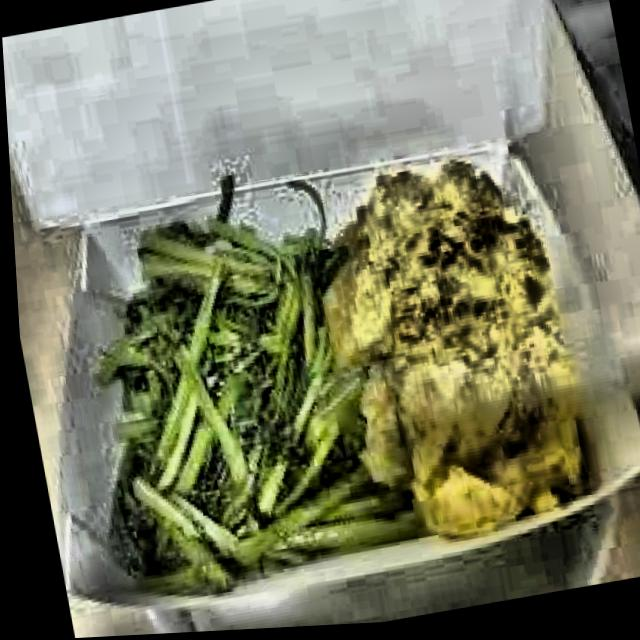Food: (79, 238, 349, 573)
